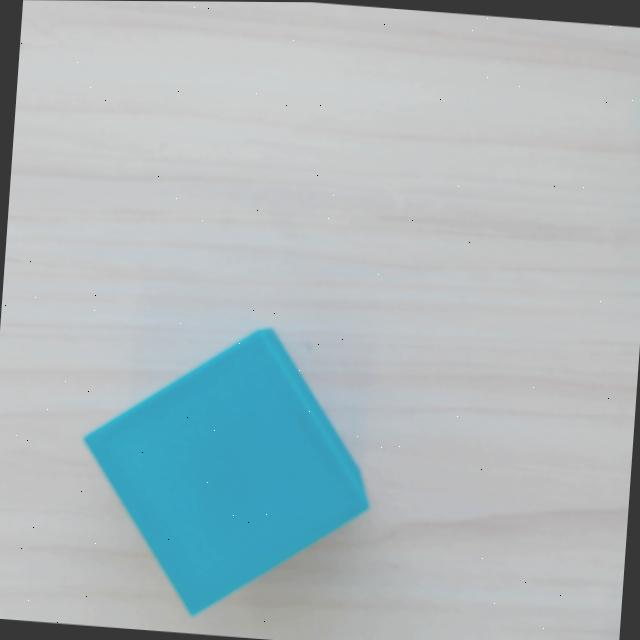Kubus-Hijau-505050: (81, 321, 378, 616)
